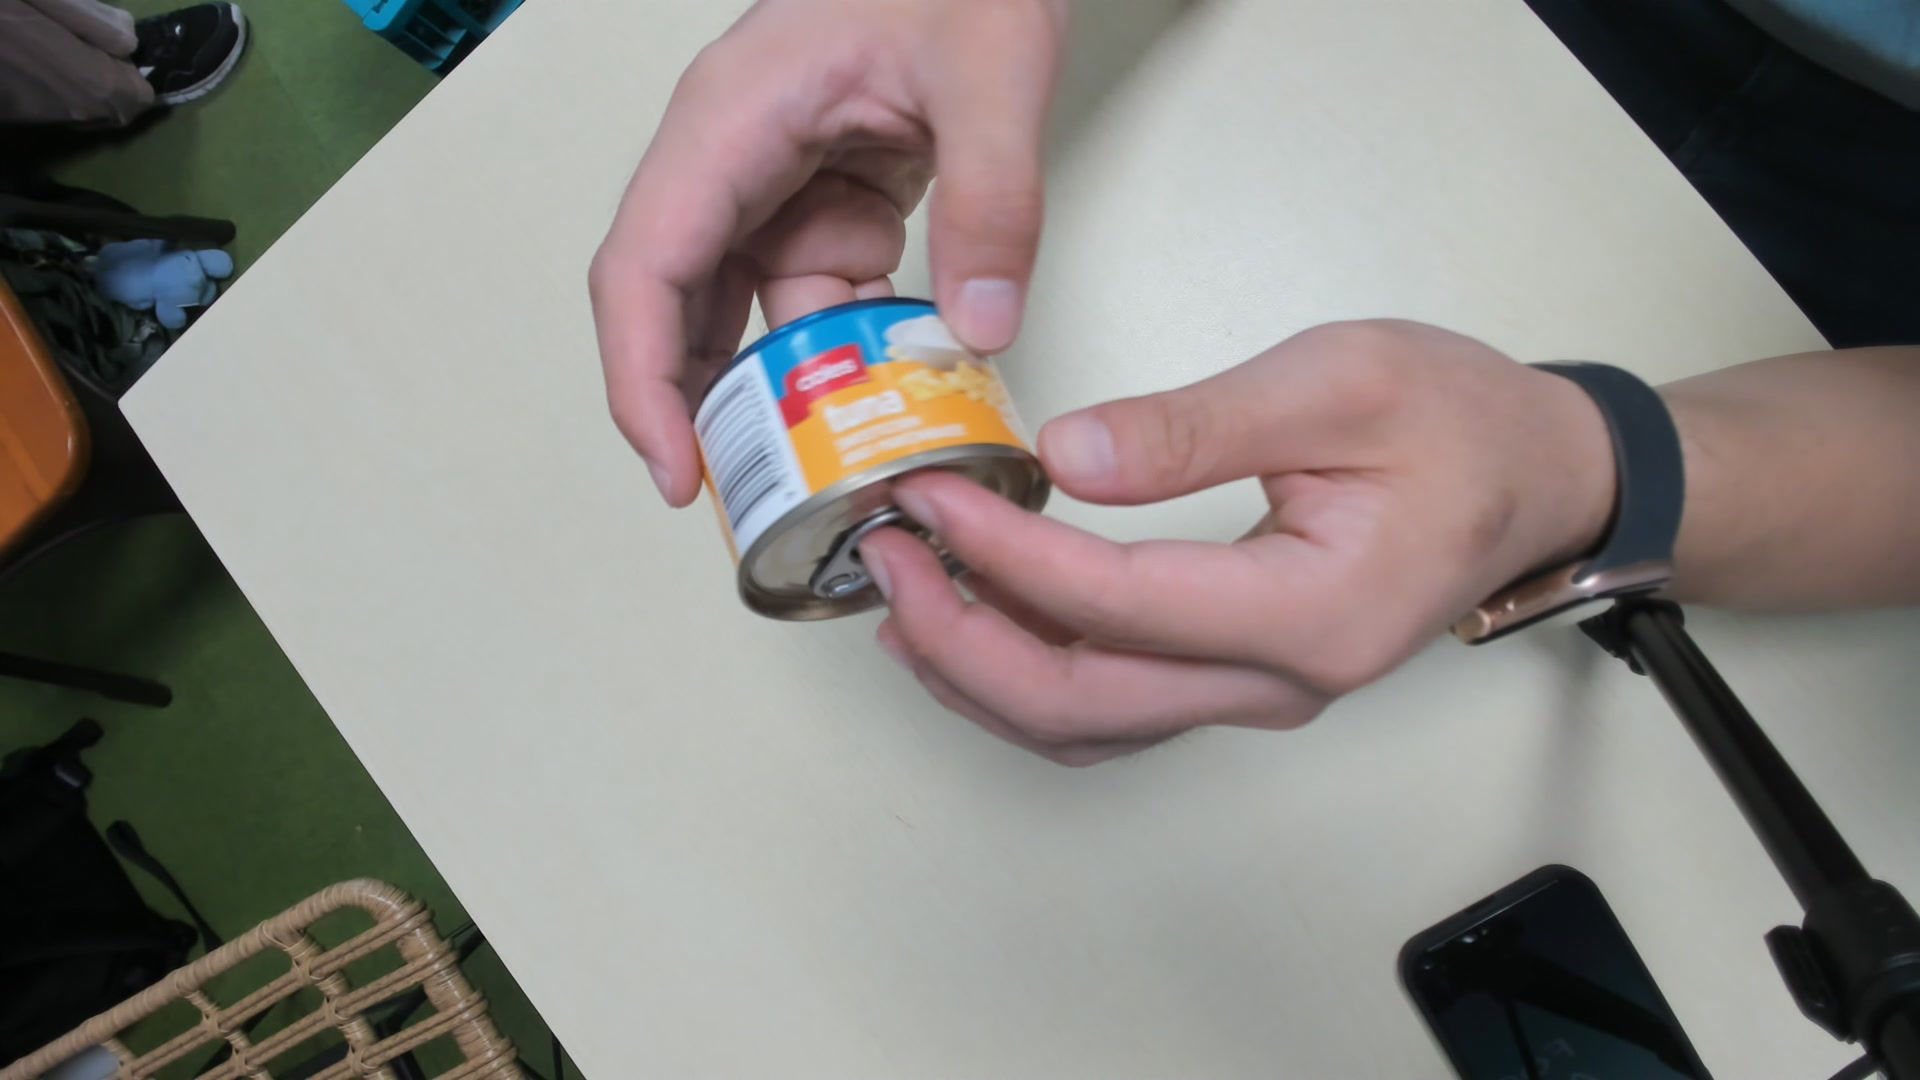OtherSauceDressing_0-99g_NonHalal_NonHealthy: (671, 294, 1048, 628)
